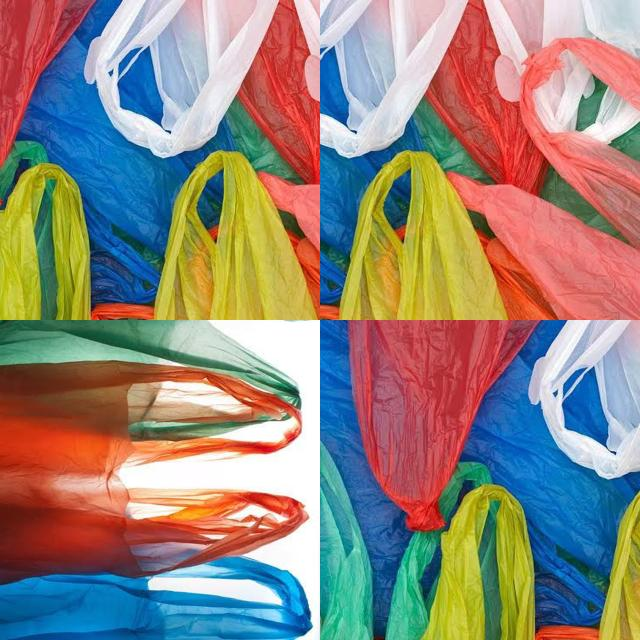Single-layer Plastic: (0, 361, 308, 583), (18, 0, 235, 304), (461, 321, 640, 626), (340, 424, 566, 640), (349, 320, 536, 531), (84, 0, 278, 157), (321, 321, 411, 636), (340, 151, 506, 320), (449, 174, 640, 319), (155, 151, 316, 320), (0, 320, 301, 409), (0, 556, 311, 640), (519, 38, 640, 249), (425, 0, 548, 194), (320, 0, 467, 158), (320, 119, 422, 304), (529, 320, 640, 478), (421, 484, 534, 639), (484, 0, 640, 101), (238, 0, 320, 184), (0, 162, 90, 320), (320, 444, 372, 639), (600, 492, 640, 639), (532, 50, 595, 132), (581, 89, 640, 144), (121, 51, 161, 120)
